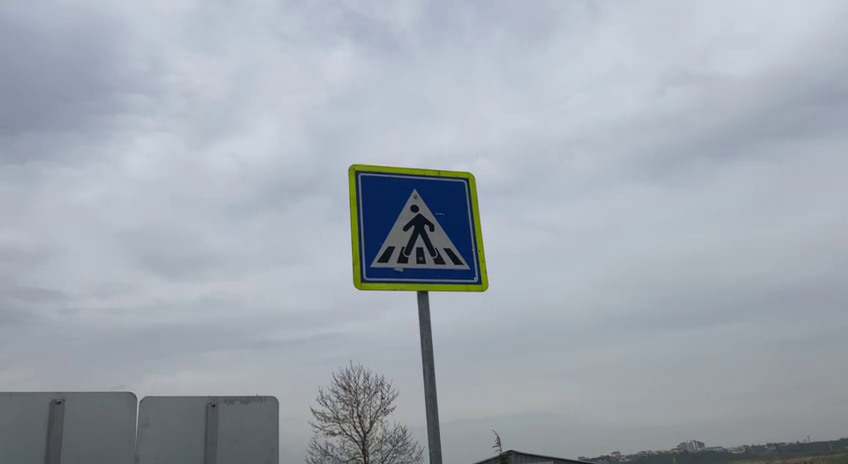pedestrianCrossing: (344, 161, 491, 295)
